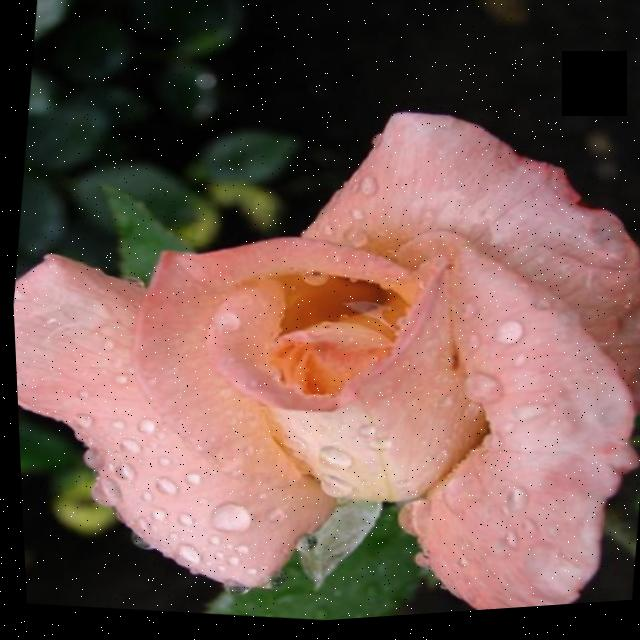rose: (3, 46, 640, 640)
